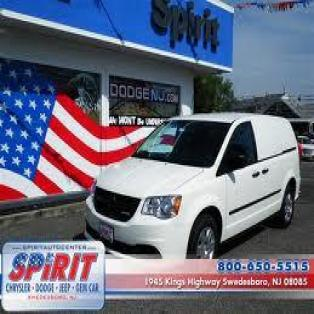Auto: (83, 113, 300, 264)
